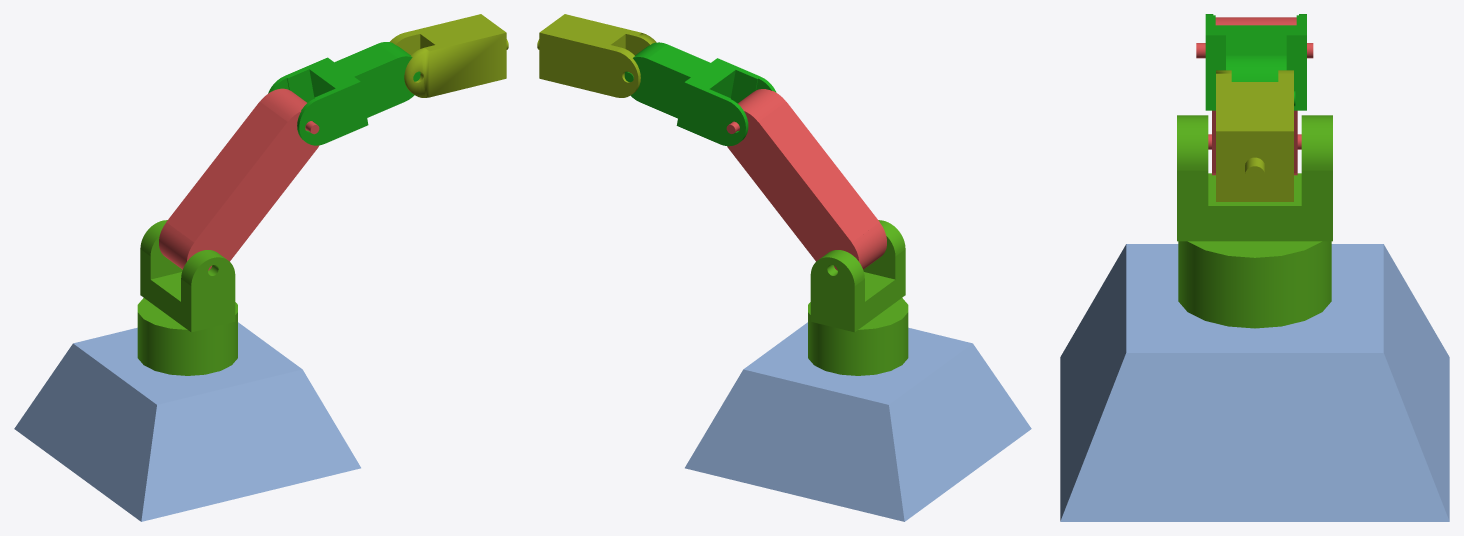
Rendered from hand.obj.
The picture shows the model from 3 angles, left to right: view 1: azimuth 30°, elevation 25°; view 2: azimuth 150°, elevation 25°; view 3: azimuth 270°, elevation 25°; orthographic projection. The views are drawn at different scales.
Visible parts, largest first — view 1: platform, arm1, rotate1, arm2, arm3; view 2: platform, arm1, rotate1, arm2, arm3; view 3: platform, rotate1, arm3, arm2, arm1.
Part boxes in pixels (<box>): platform: <box>14,322,360,521</box>; arm1: <box>159,88,319,270</box>; rotate1: <box>137,220,237,375</box>; arm2: <box>268,42,420,145</box>; arm3: <box>390,14,508,97</box>; platform: <box>685,322,1031,521</box>; arm1: <box>726,89,886,270</box>; rotate1: <box>808,220,908,375</box>; arm2: <box>624,42,776,146</box>; arm3: <box>537,14,656,97</box>; platform: <box>1060,244,1449,521</box>; rotate1: <box>1177,115,1332,328</box>; arm3: <box>1216,70,1293,201</box>; arm2: <box>1205,14,1306,110</box>; arm1: <box>1196,17,1313,175</box>.
Bounding box in the file's own units: 971 × 761 × 500.
